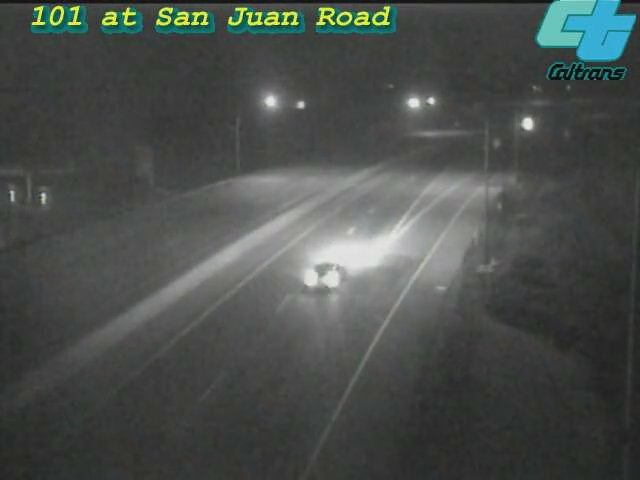vehicle: (285, 235, 365, 315), (503, 99, 553, 149)
